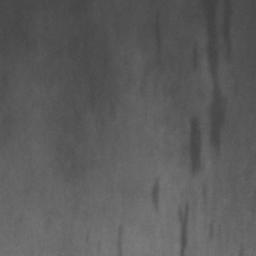Inclusion: (202, 0, 228, 148), (189, 118, 204, 172), (223, 0, 234, 58), (179, 205, 191, 256), (151, 180, 160, 209)
